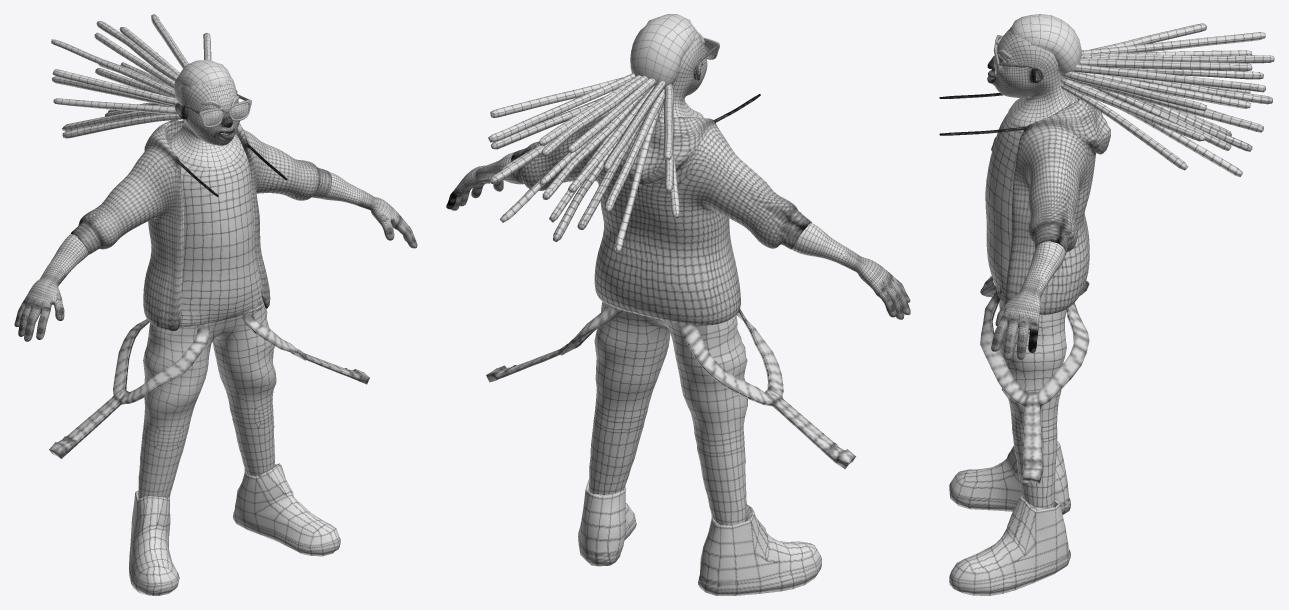
The model's file is Nicholas Wire.glb.
The picture shows the model from 3 angles, left to right: view 1: azimuth 30°, elevation 25°; view 2: azimuth 150°, elevation 25°; view 3: azimuth 270°, elevation 25°; orthographic projection. The views are drawn at different scales.
Parts seen in each view (by area): view 1: Hoodie_Low, Pants_Low, Shirt_Low, Sneakers_Low, Body_Low, Dreads_Low, Suspenders_Low, Hair_Low, Specs_Low; view 2: Hoodie_Low, Pants_Low, Dreads_Low, Sneakers_Low, Body_Low, Suspenders_Low, Hair_Low; view 3: Dreads_Low, Hoodie_Low, Sneakers_Low, Body_Low, Pants_Low, Suspenders_Low, Shirt_Low, Hair_Low.
Boxes of the visible parts, box(x1,y1,x2,y2) form: Hoodie_Low: box(70, 120, 331, 330); Pants_Low: box(138, 305, 276, 498); Shirt_Low: box(168, 131, 264, 327); Sneakers_Low: box(129, 463, 340, 595); Body_Low: box(14, 76, 417, 341); Dreads_Low: box(51, 14, 211, 138); Suspenders_Low: box(49, 299, 369, 458); Hair_Low: box(174, 60, 230, 102); Specs_Low: box(184, 94, 251, 127); Hoodie_Low: box(510, 94, 811, 325); Pants_Low: box(589, 301, 747, 525); Dreads_Low: box(488, 73, 679, 252); Sneakers_Low: box(578, 479, 821, 595); Body_Low: box(446, 26, 910, 319); Suspenders_Low: box(486, 305, 855, 468); Hair_Low: box(630, 14, 695, 86); Dreads_Low: box(1060, 23, 1274, 176); Hoodie_Low: box(939, 93, 1110, 315); Sneakers_Low: box(949, 441, 1070, 595); Body_Low: box(987, 27, 1072, 360); Pants_Low: box(999, 298, 1066, 507); Suspenders_Low: box(980, 276, 1089, 483); Shirt_Low: box(985, 95, 1077, 302); Hair_Low: box(1009, 14, 1081, 77).
Size of the model in its own units: 2.03 by 2.4 by 1.38.
Materials: 2 (2 with a texture image).
